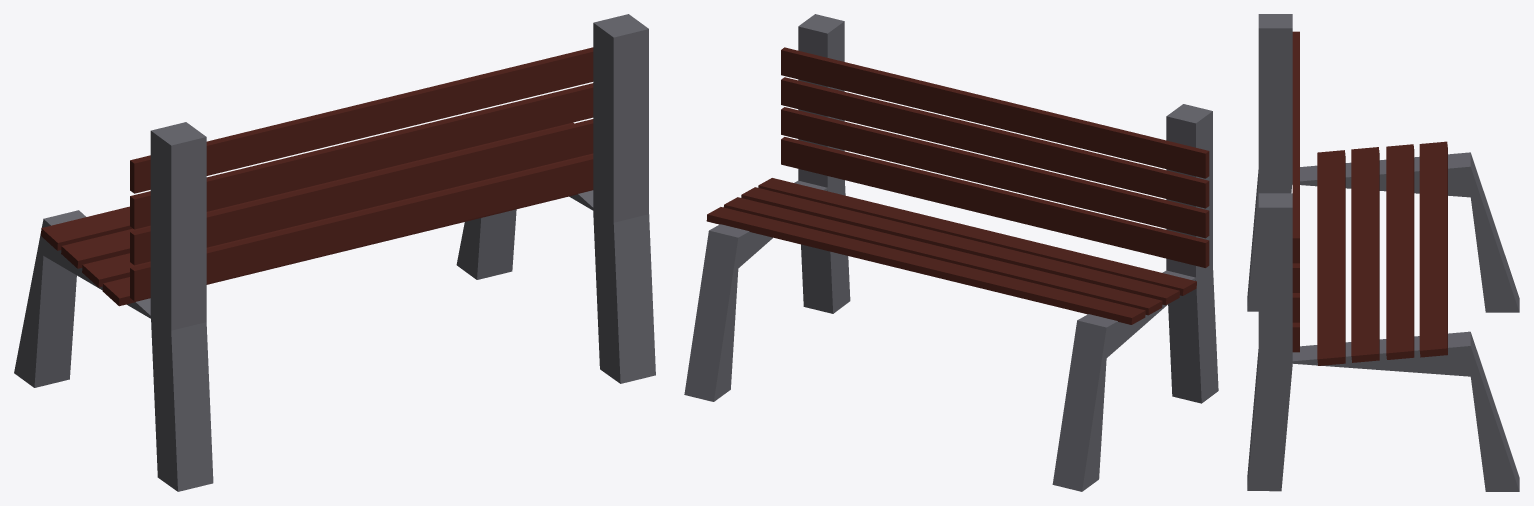
The model's file is bench.glb.
The picture shows the model from 3 angles, left to right: view 1: azimuth 30°, elevation 25°; view 2: azimuth 150°, elevation 25°; view 3: azimuth 270°, elevation 25°; orthographic projection. The views are drawn at different scales.
Parts seen in each view (by area): view 1: Cube.015; view 2: Cube.015; view 3: Cube.015.
Boxes of the visible parts, x1,y1,x2,y2 form: Cube.015: (14,14,655,491); Cube.015: (684,14,1218,491); Cube.015: (1247,14,1519,491).
Bounding box in the file's own units: 0.4154 × 0.2664 × 0.2312.
